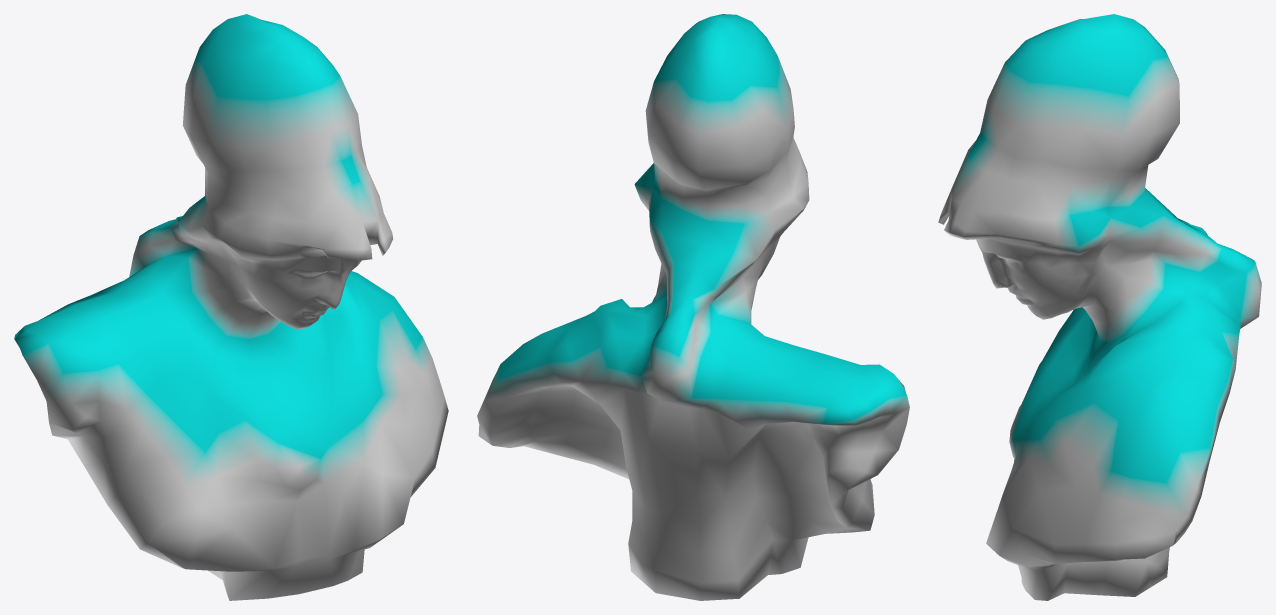
File: SM_StatueA.fbx
3 views of the same model, side by side, from view 1: azimuth 30°, elevation 25°; view 2: azimuth 150°, elevation 25°; view 3: azimuth 270°, elevation 25° (orthographic).
Parts seen in each view (by area): view 1: SM_StatueA; view 2: SM_StatueA; view 3: SM_StatueA.
Part boxes in pixels (bbox=[...]): SM_StatueA: bbox=[14, 14, 448, 600]; SM_StatueA: bbox=[477, 14, 909, 600]; SM_StatueA: bbox=[938, 14, 1261, 600].
Bounding box in the file's own units: 50.2 × 63.46 × 33.92.
